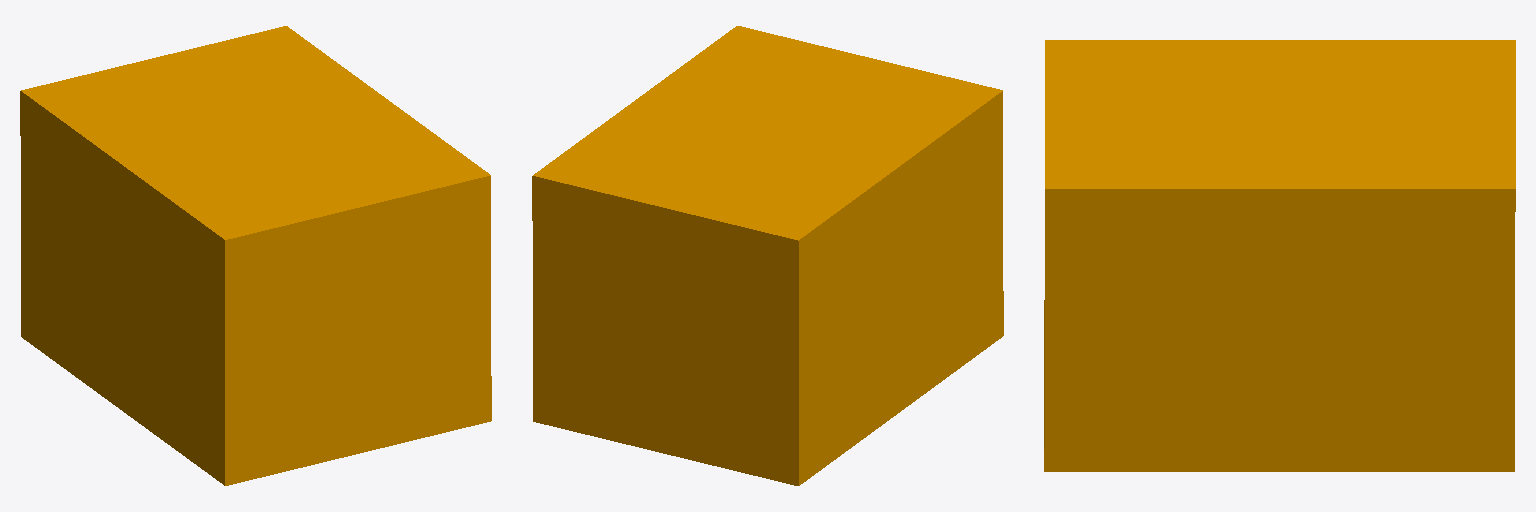
The robot description file, URDF, robot "small_box":
<?xml version="1.0"?>
<robot name="small_box">
<link name="small_box">
    <visual>
      <geometry>
        <mesh filename="package://shipping_experiment/models/cad_models/obj/small_box.obj"/>
      </geometry>
      <origin rpy="1.57 0 0" xyz="0 0 0"/>
    </visual>
    <collision>
      <geometry>
        <mesh filename="package://shipping_experiment/models/cad_models/obj/small_box.obj"/>
      </geometry>
      <origin rpy="1.57 0 0" xyz="0 0 -0"/>
      <contact_coefficients mu="1000.0" kp="0.00" kd="0.0"/>
    </collision>

    <inertial>
      <mass value="0.7"/>
      <inertia ixx="0.001" ixy="0.0" ixz="0.0"
               iyy="0.001" iyz="0.0"
               izz="0.001"/>
    </inertial>
</link>

</robot>

--- What the picture shows (computed from the rendered views, not written in the file) ---
The picture shows the robot from 3 angles, left to right: view 1: azimuth 30°, elevation 25°; view 2: azimuth 150°, elevation 25°; view 3: azimuth 270°, elevation 25°; orthographic projection.
Robot: small_box — 1 links, 0 joints (none); root link small_box; default pose: every joint at zero.
Visible links, largest first — view 1: small_box; view 2: small_box; view 3: small_box.
Link boxes in pixels (bbox=[...]): small_box: bbox=[20, 26, 491, 485]; small_box: bbox=[532, 26, 1003, 485]; small_box: bbox=[1044, 40, 1515, 471].
Size in the robot's own frame: 0.6 by 0.8004 by 0.5306 metres.
1 mesh visuals loaded from 1 distinct referenced files (1 OBJ).